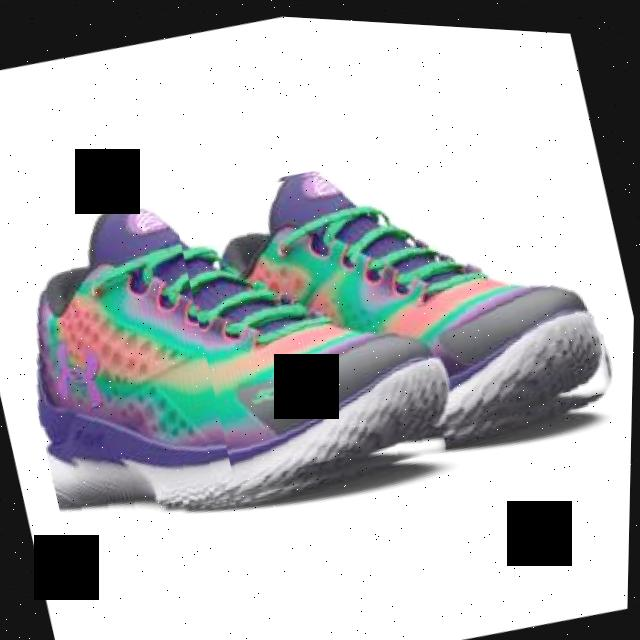shoe: (0, 130, 477, 555), (167, 103, 629, 498)
